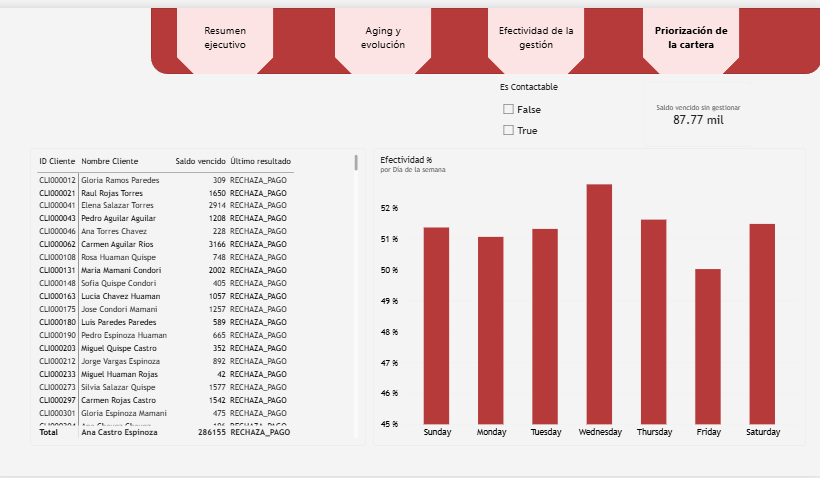

Layout of this report page (visuals, bound fields, positions):
{"tool":"powerbi","page":{"name":"Priorización de la cartera","canvas":[1920,1080],"ordinal":3},"visuals":[{"type":"pivotTable","fields":{"Rows":["dim_cliente.cliente_id"],"Values":["Min(dim_cliente.nombre)","_Medidas.Saldo vencido","_Medidas.Último resultado"]},"box":[90.1,323.5,649.2,686.2],"z":0},{"type":"cardVisual","fields":{"Data":["_Medidas.Saldo vencido sin gestionar"]},"box":[1508,172,250,150],"z":1000},{"type":"clusteredColumnChart","fields":{"Category":["dim_fecha.nombre_dia","fct_gestiones.hora_del_dia"],"Y":["_Medidas.Efectividad %"]},"box":[882.5,322.5,1000,687.5],"z":2000},{"type":"slicer","title":"Es Contactable","fields":{"Values":["dim_cliente.es_contactable"]},"box":[1176,172,164,150],"z":3000},{"type":"shape","box":[370,0,1550,152.5],"z":4000},{"type":"shape","box":[430,0,222.5,152.5],"z":5000},{"type":"shape","box":[795,0,222.5,152.5],"z":6000},{"type":"shape","box":[1147.5,0,222.5,152.5],"z":7000},{"type":"shape","box":[1507.5,0,222.5,152.5],"z":8000}]}

Visuals, with their boxes on the page's 1920x1080 design canvas (x1, y1, x2, y2). These are canvas units, not pixel positions in the 820x478 screenshot, which may show the page scaled, cropped or inside an application window:
pivotTable - dim_cliente.cliente_id x Min(dim_cliente.nombre): (90, 324, 739, 1010)
cardVisual - _Medidas.Saldo vencido sin gestionar: (1508, 172, 1758, 322)
clusteredColumnChart - dim_fecha.nombre_dia x fct_gestiones.hora_del_dia: (882, 322, 1882, 1010)
"Es Contactable" slicer: (1176, 172, 1340, 322)
shape: (370, 0, 1920, 152)
shape: (430, 0, 652, 152)
shape: (795, 0, 1018, 152)
shape: (1148, 0, 1370, 152)
shape: (1508, 0, 1730, 152)
